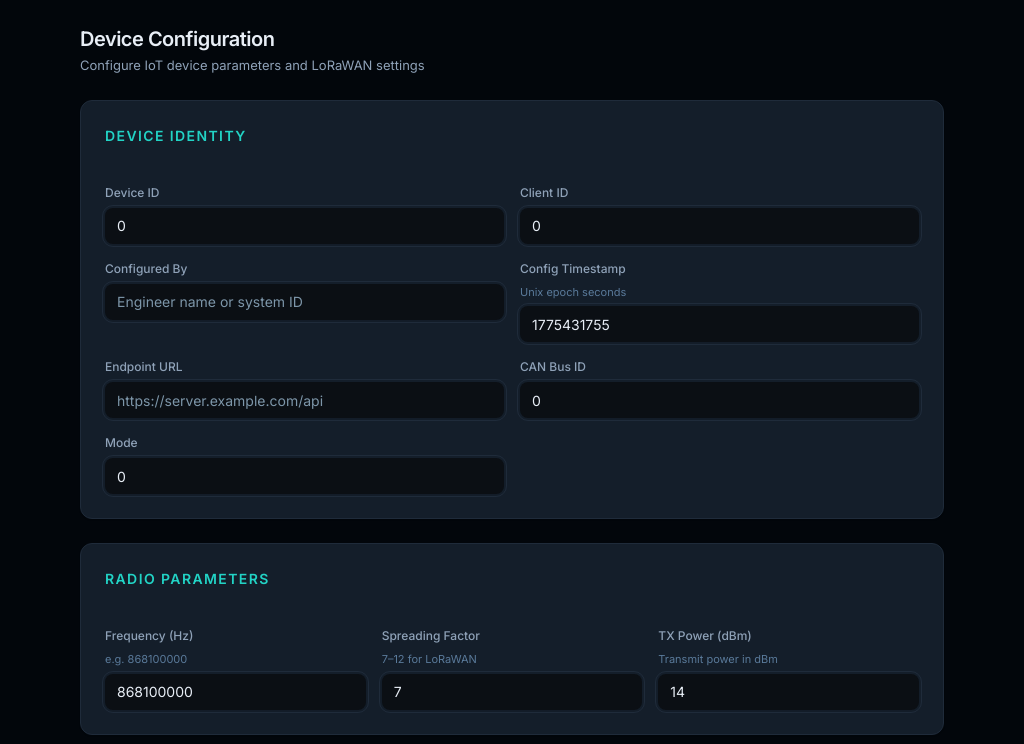
Test: DeviceConfigPage › shows generic error on actor rejection
Step 1. Type "Alice" into the field labelled "Configured By" → {"x": 304, "y": 302}, box [105,284,504,320]
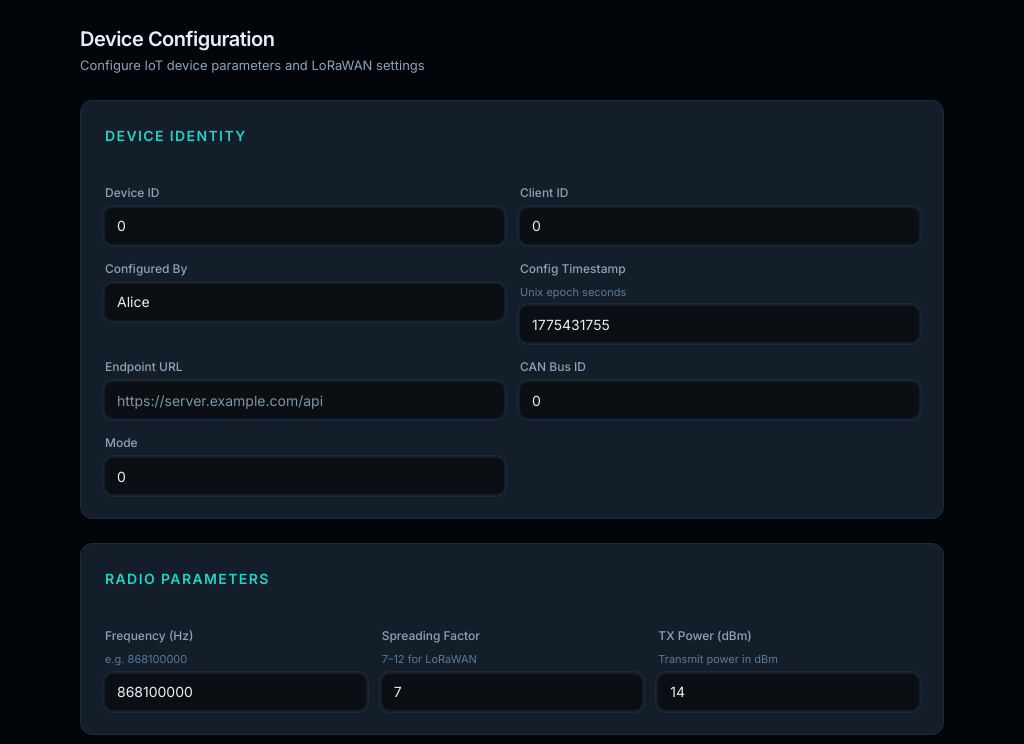
Step 2. Type "https://test.com" into the field labelled "Endpoint URL" → {"x": 304, "y": 400}, box [105,382,504,418]
(page scrolled)
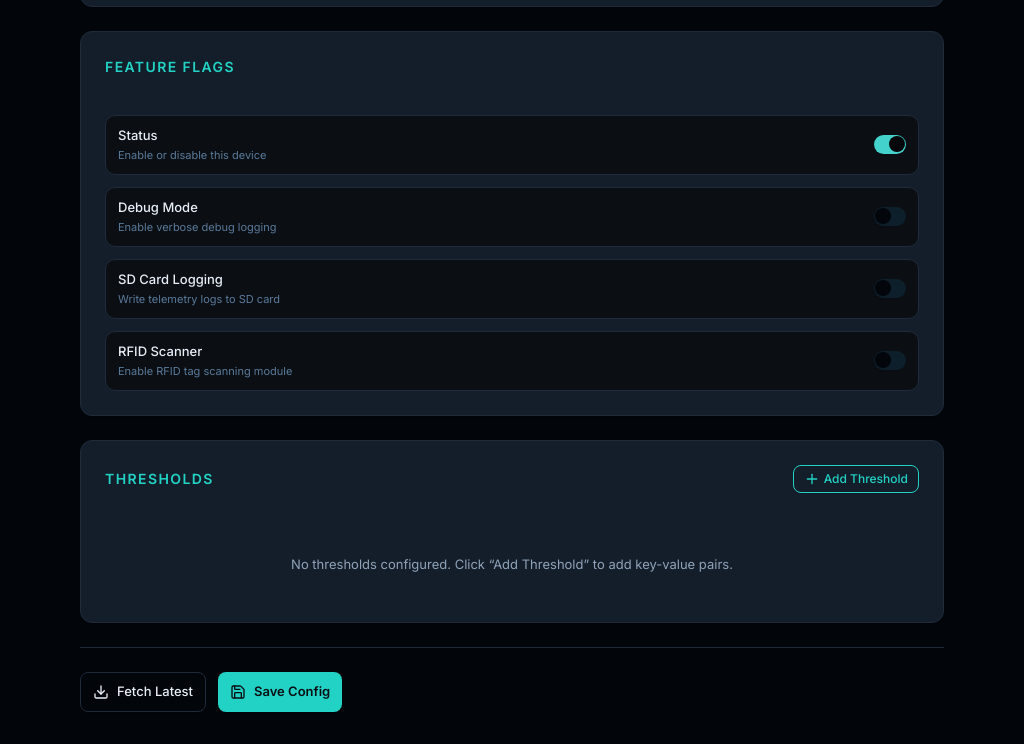
Step 3. Click the button "Save Config" → {"x": 280, "y": 692}, box [218,672,342,712]
(page scrolled)
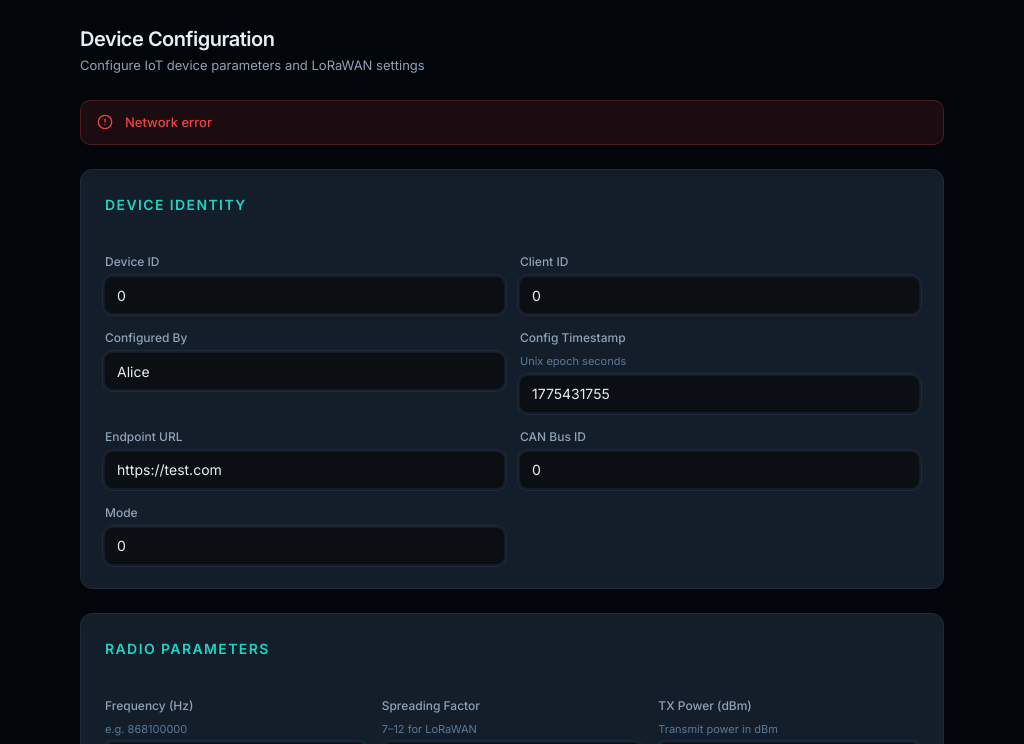
Expected: the text "Network error" is shown, [125,112,212,132]
